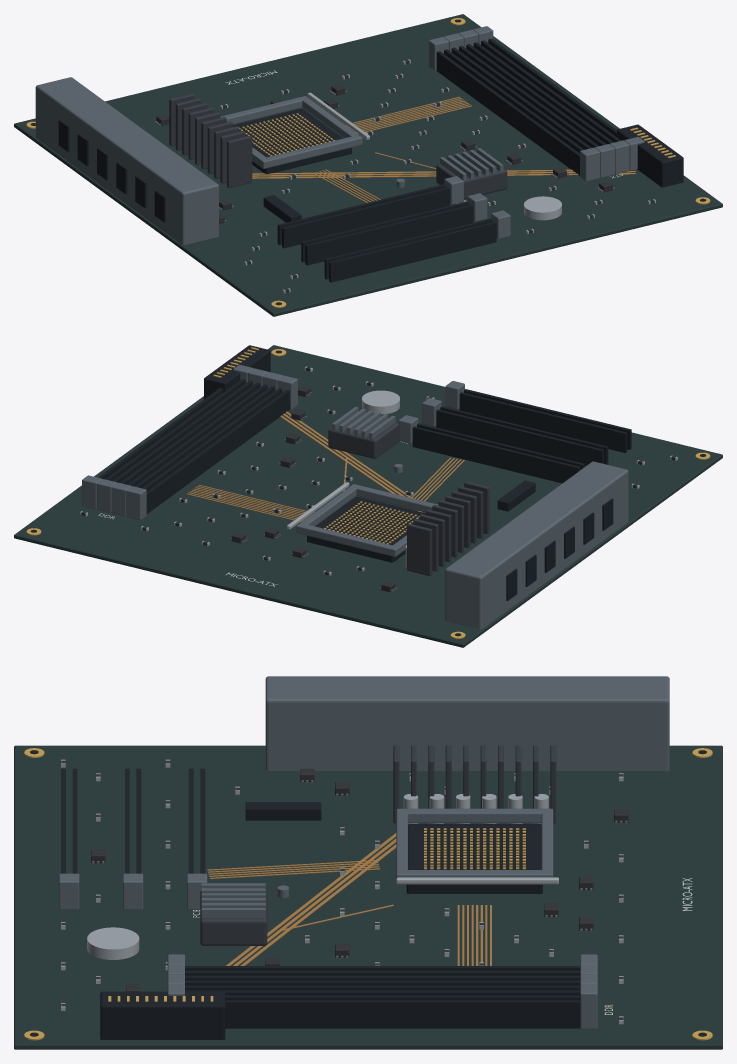
The model's file is motherboard-micro-atx.glb.
3 views of the same model, one above another, from view 1: azimuth 30°, elevation 25°; view 2: azimuth 150°, elevation 25°; view 3: azimuth 270°, elevation 25° (orthographic). The views are drawn at different scales.
Visible parts, largest first — view 1: Motherboard_PCB_Deep_Slate, Motherboard_Plastic_Black, Motherboard_Metal_Dark_Steel, Motherboard_Paint_Graphite, Motherboard_Trace_Copper, Motherboard_Metal_Aluminum, Motherboard_Contact_Gold, Motherboard_Chip_Ceramic; view 2: Motherboard_PCB_Deep_Slate, Motherboard_Plastic_Black, Motherboard_Metal_Dark_Steel, Motherboard_Paint_Graphite, Motherboard_Trace_Copper, Motherboard_Contact_Gold, Motherboard_Metal_Aluminum, Motherboard_Chip_Ceramic; view 3: Motherboard_PCB_Deep_Slate, Motherboard_Metal_Dark_Steel, Motherboard_Plastic_Black, Motherboard_Paint_Graphite, Motherboard_Metal_Aluminum, Motherboard_Trace_Copper, Motherboard_Contact_Gold, Motherboard_Chip_Ceramic.
Boxes of the visible parts, <box> form: Motherboard_PCB_Deep_Slate: <box>14,14,722,316</box>; Motherboard_Plastic_Black: <box>31,19,705,305</box>; Motherboard_Metal_Dark_Steel: <box>35,26,644,245</box>; Motherboard_Paint_Graphite: <box>169,93,507,199</box>; Motherboard_Trace_Copper: <box>252,96,635,202</box>; Motherboard_Metal_Aluminum: <box>220,59,655,293</box>; Motherboard_Contact_Gold: <box>26,18,710,307</box>; Motherboard_Chip_Ceramic: <box>156,60,654,292</box>; Motherboard_PCB_Deep_Slate: <box>14,345,722,647</box>; Motherboard_Plastic_Black: <box>31,345,705,636</box>; Motherboard_Metal_Dark_Steel: <box>82,364,628,629</box>; Motherboard_Paint_Graphite: <box>328,422,489,576</box>; Motherboard_Trace_Copper: <box>187,411,464,521</box>; Motherboard_Contact_Gold: <box>26,347,710,638</box>; Motherboard_Metal_Aluminum: <box>80,366,677,575</box>; Motherboard_Chip_Ceramic: <box>81,367,675,592</box>; Motherboard_PCB_Deep_Slate: <box>14,745,722,1049</box>; Motherboard_Metal_Dark_Steel: <box>59,676,669,1029</box>; Motherboard_Plastic_Black: <box>30,750,706,1039</box>; Motherboard_Paint_Graphite: <box>200,745,556,945</box>; Motherboard_Metal_Aluminum: <box>61,759,623,1024</box>; Motherboard_Trace_Copper: <box>207,833,491,965</box>; Motherboard_Contact_Gold: <box>24,748,712,1040</box>; Motherboard_Chip_Ceramic: <box>61,760,628,1019</box>.
Bounding box in the file's own units: 0.244 × 0.029 × 0.244.
